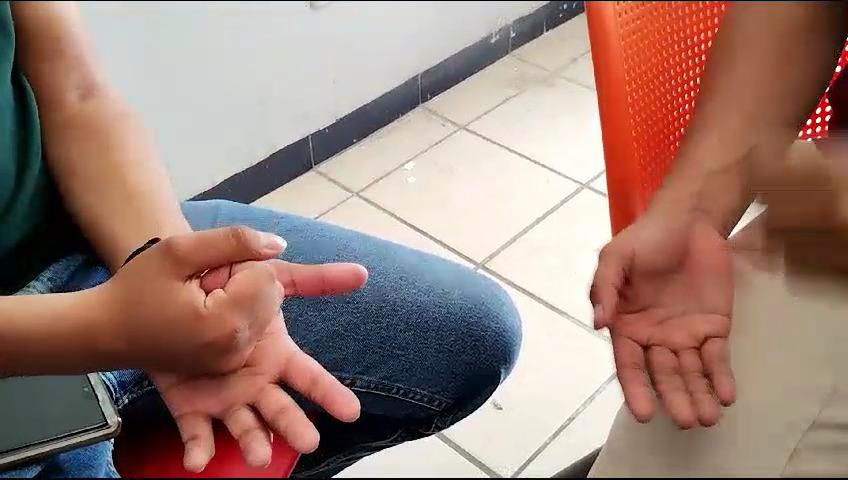Paper: (571, 210, 761, 449)
Stone: (121, 232, 296, 385)
